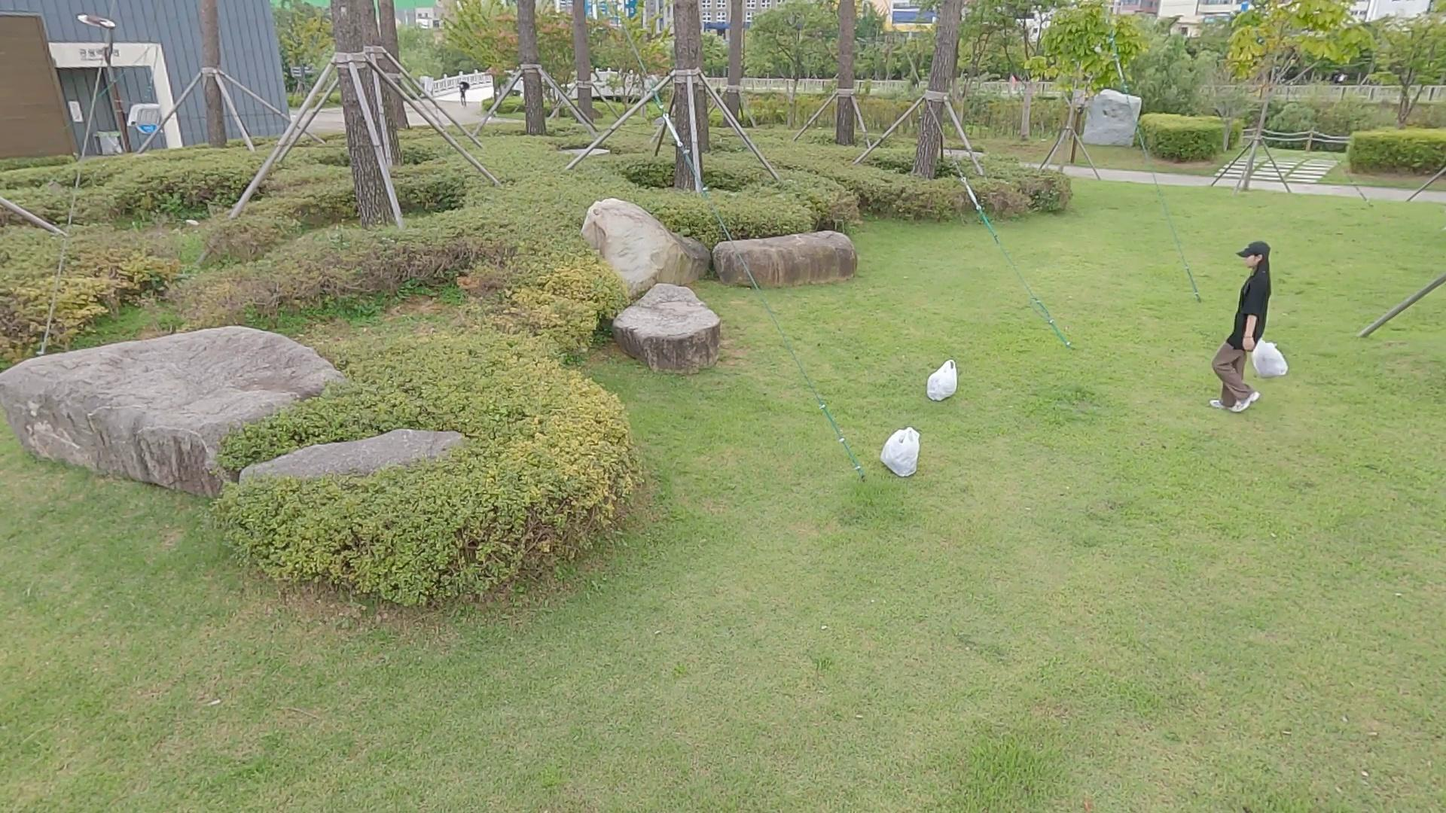person: (1209, 242, 1278, 416)
trash: (875, 429, 924, 480), (1249, 335, 1289, 382), (928, 351, 960, 406)
